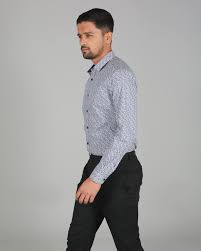F_dress pants: (66, 153, 149, 251)
F_shirt: (74, 56, 149, 181)
